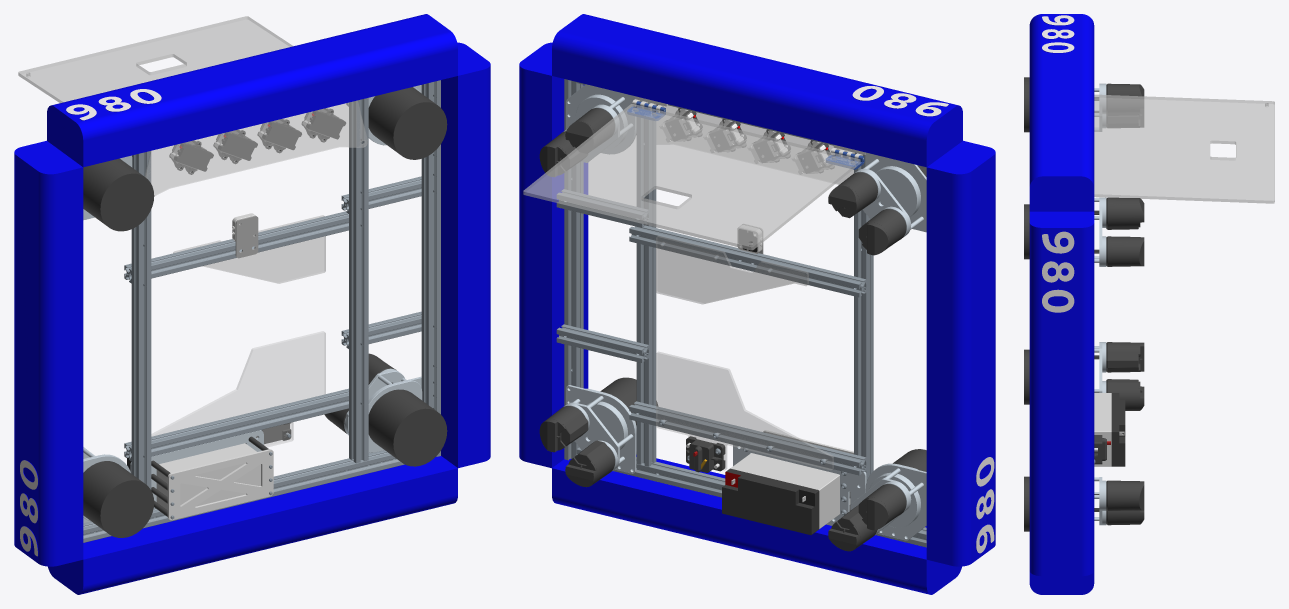
The picture shows the model from 3 angles, left to right: view 1: azimuth 30°, elevation 25°; view 2: azimuth 150°, elevation 25°; view 3: azimuth 270°, elevation 25°; orthographic projection. The views are drawn at different scales.
Visible parts, largest first — view 1: Bumper (×4), Part 1 (×6), Simplified MK4 (×4), 28.5' sloted aluminum extrusion (×4), 16.5' sloted aluminum extrusion (×2), 28.5' Sloted Aluminum extrusion, Part 2, 29.5' sloted aluminum extrusion, Simplified SPARK MAX (×4), Robot Battery; view 2: Bumper (×4), Part 1 (×4), Simplified MK4 (×4), 28.5' sloted aluminum extrusion (×4), 16.5' sloted aluminum extrusion (×2), Robot Battery, Part 2, 28.5' Sloted Aluminum extrusion, REV-21-2151 (×4), 29.5' sloted aluminum extrusion, 120A Main Breaker, id79; view 3: Bumper (×3), Part 1, Simplified MK4 (×4), Robot Battery, 120A Main Breaker.
Boxes of the visible parts, box(x1,y1,x2,y2) form: Bumper (×4): box(14, 14, 490, 594); Part 1 (×6): box(18, 16, 367, 520); Simplified MK4 (×4): box(83, 85, 447, 537); 28.5' sloted aluminum extrusion (×4): box(131, 98, 421, 489); 16.5' sloted aluminum extrusion (×2): box(124, 211, 348, 461); 28.5' Sloted Aluminum extrusion: box(421, 80, 440, 456); Part 2: box(173, 215, 325, 283); 29.5' sloted aluminum extrusion: box(83, 450, 404, 542); Simplified SPARK MAX (×4): box(170, 110, 345, 171); Robot Battery: box(127, 443, 260, 509); Bumper (×4): box(519, 14, 995, 594); Part 1 (×4): box(523, 104, 866, 525); Simplified MK4 (×4): box(539, 84, 926, 551); 28.5' sloted aluminum extrusion (×4): box(556, 100, 873, 486); 16.5' sloted aluminum extrusion (×2): box(629, 225, 866, 475); Robot Battery: box(722, 453, 850, 534); Part 2: box(656, 236, 808, 304); 28.5' Sloted Aluminum extrusion: box(564, 79, 583, 460); REV-21-2151 (×4): box(665, 108, 834, 173); 29.5' sloted aluminum extrusion: box(576, 447, 926, 547); 120A Main Breaker: box(686, 436, 725, 472); id79: box(737, 225, 762, 253); Bumper (×3): box(1029, 14, 1094, 594); Part 1: box(1094, 94, 1274, 203); Simplified MK4 (×4): box(1024, 77, 1144, 531); Robot Battery: box(1094, 393, 1125, 466); 120A Main Breaker: box(1094, 435, 1110, 464).
Bounding box in the file's own units: 0.9097 × 0.9097 × 0.4932.
